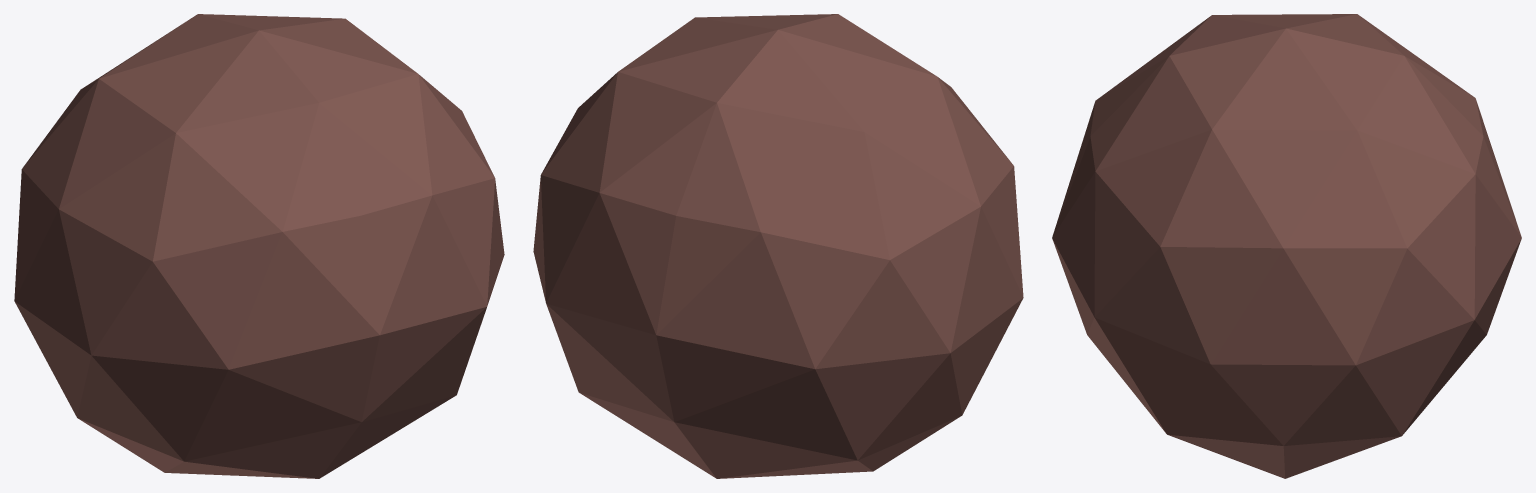
The model's file is PalmTree_Crop.gltf.
3 renders of one model, left to right at view 1: azimuth 30°, elevation 25°; view 2: azimuth 150°, elevation 25°; view 3: azimuth 270°, elevation 25°, orthographic. The views are drawn at different scales.
Parts seen in each view (by area): view 1: PalmTree_Crop; view 2: PalmTree_Crop; view 3: PalmTree_Crop.
Boxes of the visible parts, x1,y1,x2,y2 form: PalmTree_Crop: (14, 14, 504, 478); PalmTree_Crop: (533, 14, 1023, 478); PalmTree_Crop: (1052, 14, 1521, 478).
Bounding box in the file's own units: 0.2243 × 0.2241 × 0.226.
